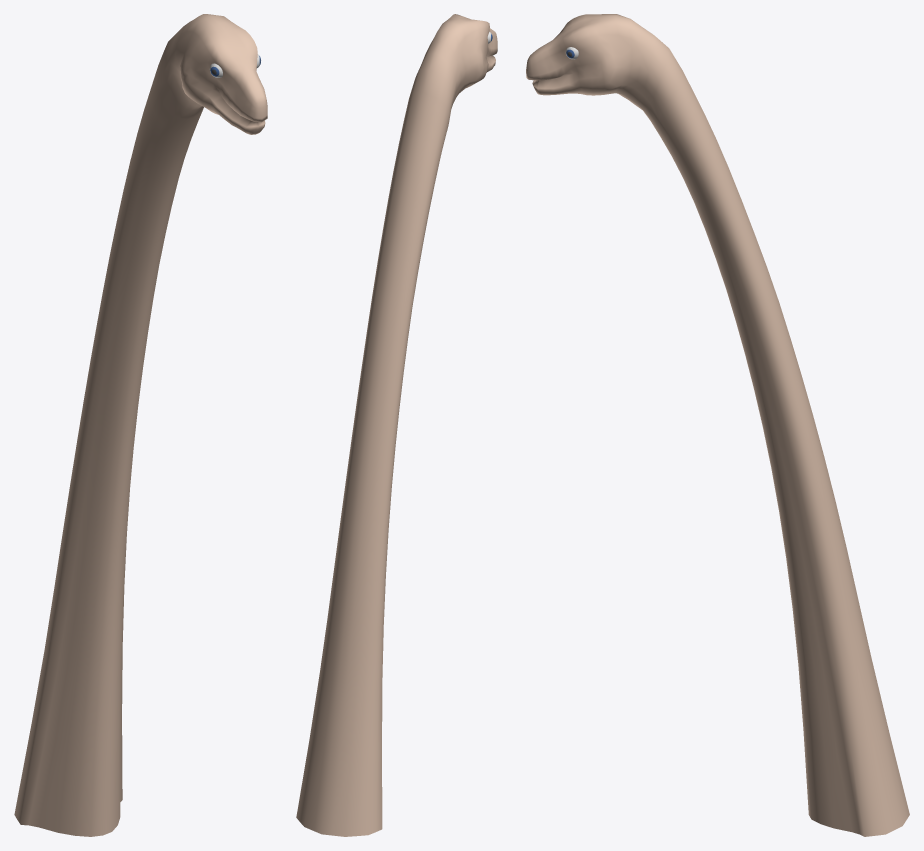
File: SM_TallTrippyTreeB3.fbx
The picture shows the model from 3 angles, left to right: view 1: azimuth 30°, elevation 25°; view 2: azimuth 150°, elevation 25°; view 3: azimuth 270°, elevation 25°; orthographic projection. The views are drawn at different scales.
Visible parts, largest first — view 1: bronto; view 2: bronto; view 3: bronto.
Boxes of the visible parts, bbox=[...] form: bronto: bbox=[14, 14, 267, 836]; bronto: bbox=[296, 14, 497, 836]; bronto: bbox=[526, 14, 909, 836].
Size of the model in its own units: 265 by 2233 by 973.
